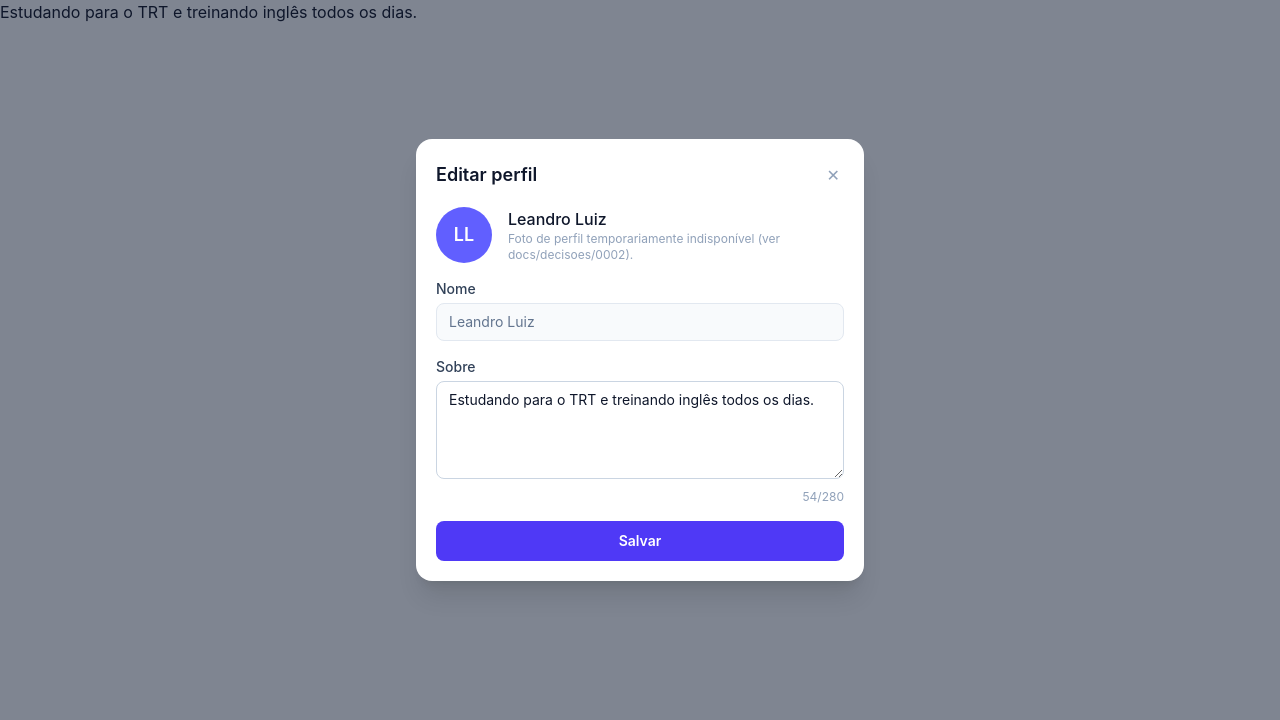
ProfileModal › salva a nova bio e fecha o modal
The width and height of the screenshot is (1280, 720).
Replace the text in the text box labelled "Sobre" with "Focado em redação essa semana." at (640, 430), box [436,381,844,479]
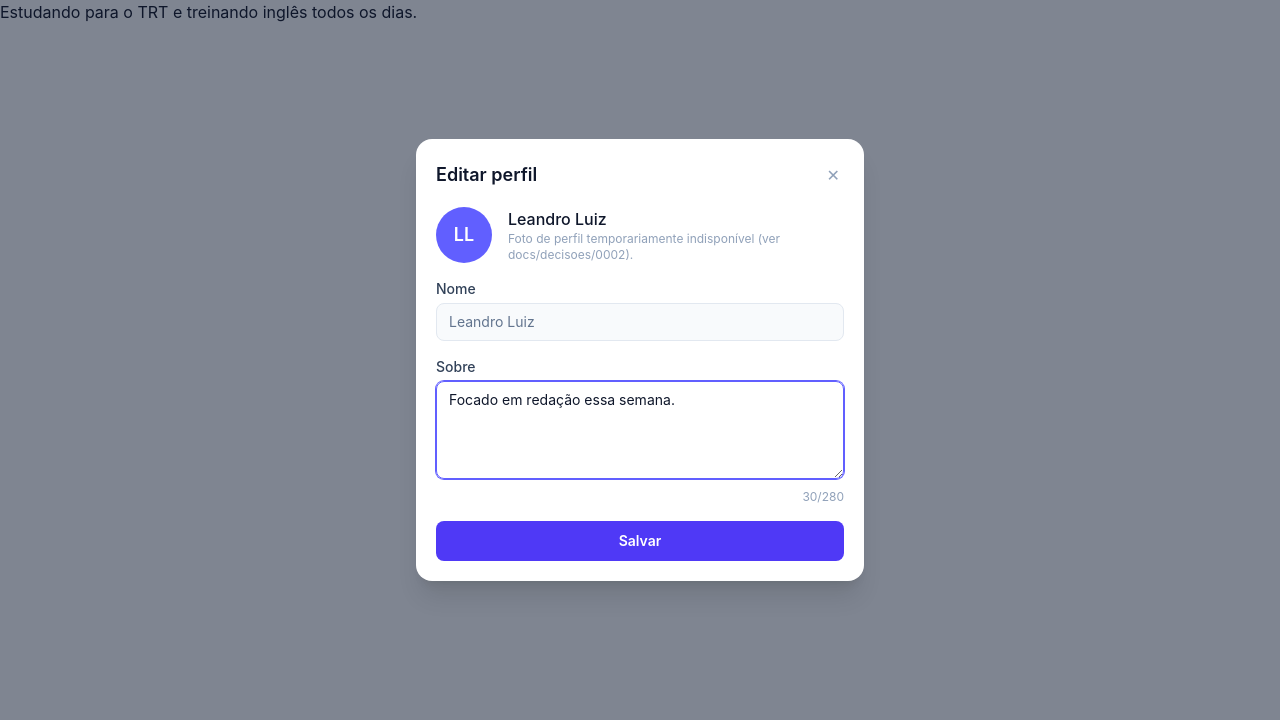
Click the button "Salvar" at (640, 541), box [436,521,844,561]
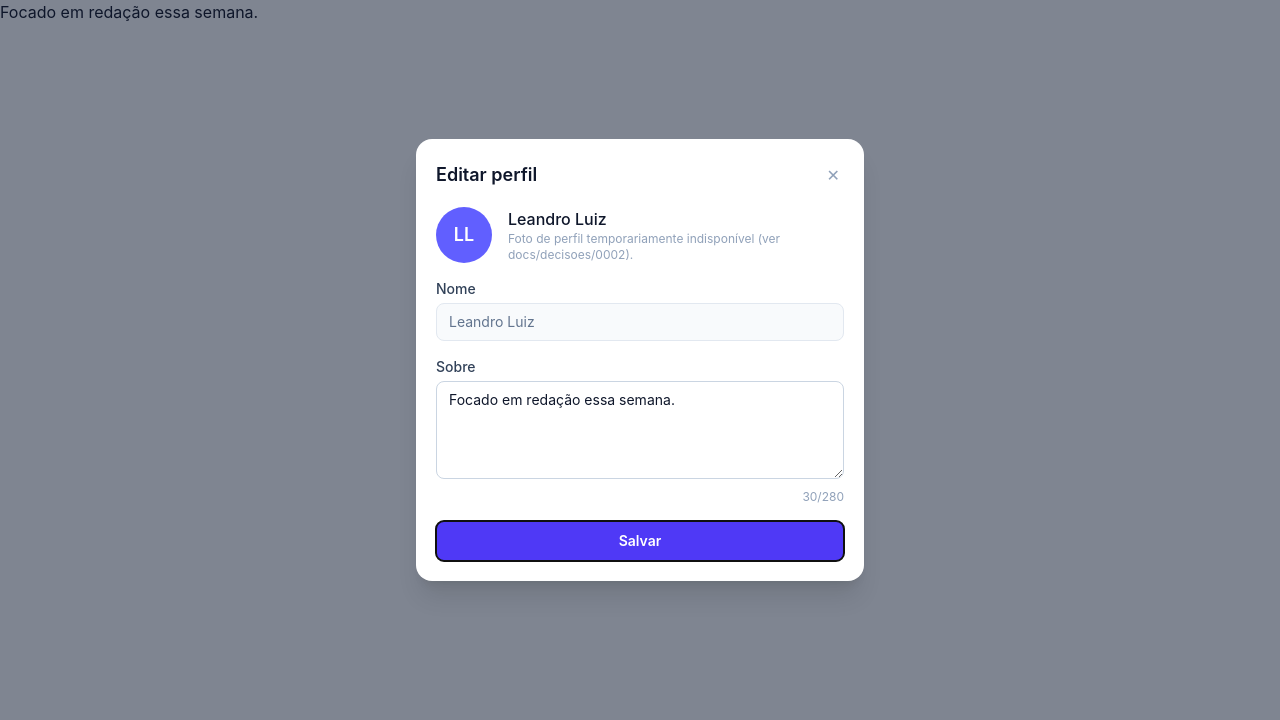
Expected: the text with test id "current-bio" reads "Focado em redação essa semana.", [0,2,258,22]
